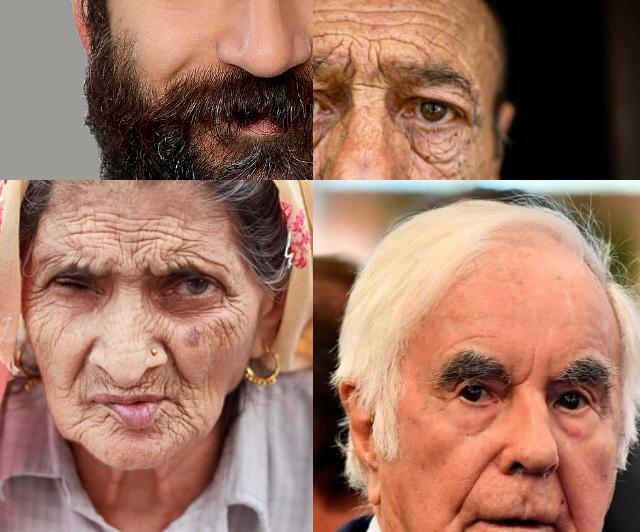bunny_line: (140, 314, 170, 339)
chin: (163, 422, 193, 448), (104, 412, 120, 438)
crows_feet: (223, 288, 244, 318), (28, 283, 52, 305)
forehead: (396, 0, 462, 50), (350, 0, 386, 39), (118, 217, 158, 249), (450, 326, 508, 348), (73, 206, 115, 236), (313, 0, 337, 47), (166, 229, 204, 257)
frown_line: (346, 45, 386, 85), (112, 252, 148, 278), (516, 353, 538, 391)
gummy_smile: (454, 449, 492, 505), (550, 469, 576, 516), (166, 345, 187, 383), (72, 347, 88, 387)
masseter: (210, 324, 248, 350), (34, 323, 52, 354)
sad_smile: (72, 408, 96, 428), (169, 396, 187, 418), (446, 521, 470, 532)
smoker_lines: (95, 372, 117, 394), (139, 372, 157, 394)
